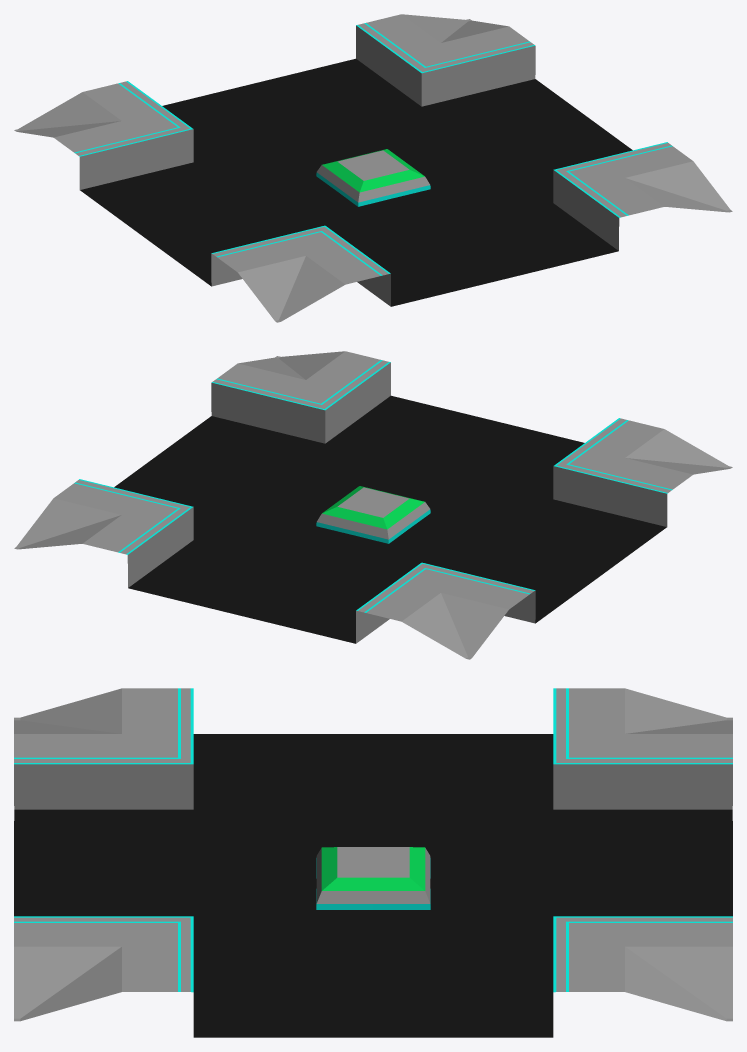
Rendered from rail_plate_cross_01.FBX.
3 renders of one model, top to bottom at view 1: azimuth 30°, elevation 25°; view 2: azimuth 150°, elevation 25°; view 3: azimuth 270°, elevation 25°, orthographic. The views are drawn at different scales.
Parts seen in each view (by area): view 1: rail_plate_cross_01; view 2: rail_plate_cross_01; view 3: rail_plate_cross_01.
Boxes of the visible parts, x1=… form: rail_plate_cross_01: x1=14, y1=14, x2=732, y2=322; rail_plate_cross_01: x1=14, y1=351, x2=732, y2=659; rail_plate_cross_01: x1=14, y1=688, x2=732, y2=1037.
Bounding box in the file's own units: 400 × 27.96 × 400.
